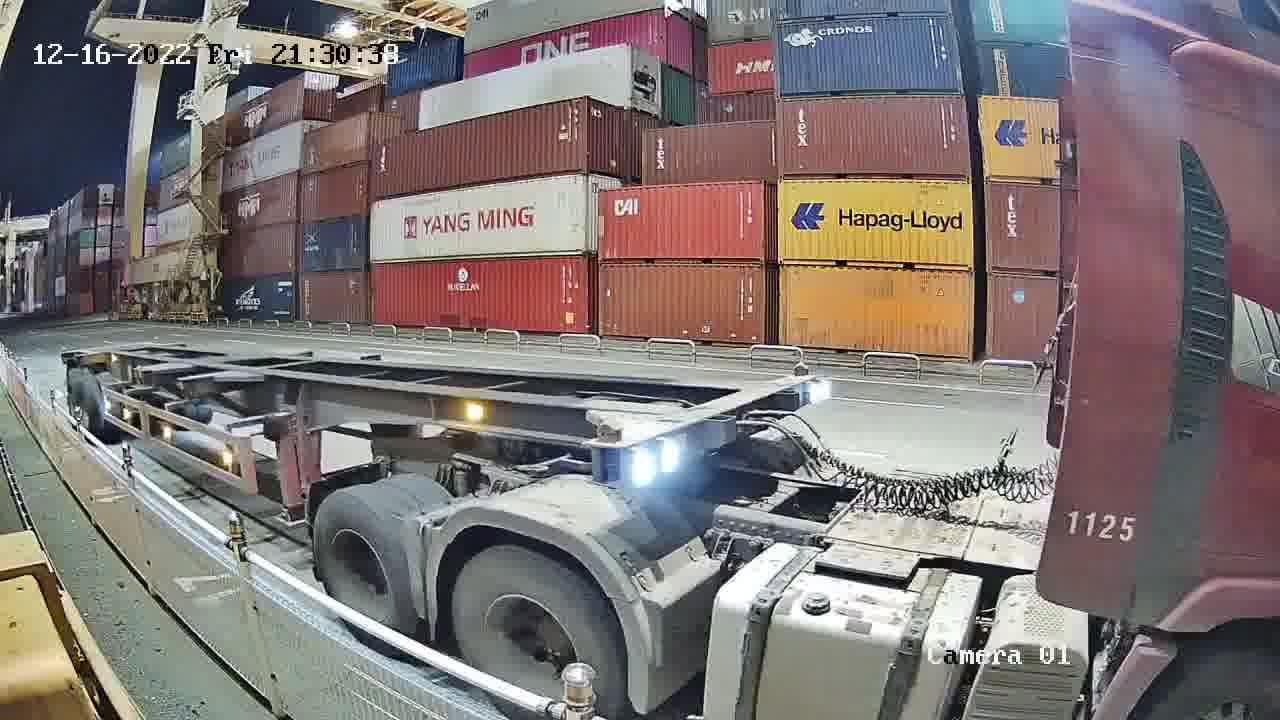Chassis: (613, 374, 821, 487)
Cone: (590, 424, 627, 486), (790, 362, 818, 406)
Tire: (453, 547, 630, 714), (314, 493, 424, 638)
